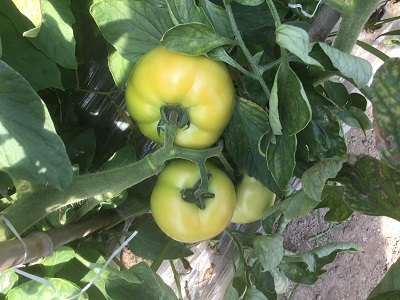immature-tomato: (124, 45, 236, 149), (150, 157, 236, 244), (228, 165, 276, 223)
